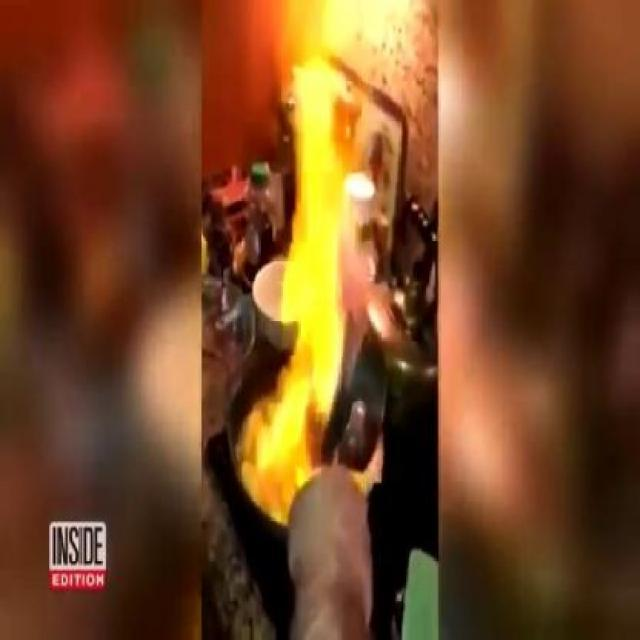fire: (274, 97, 351, 376)
